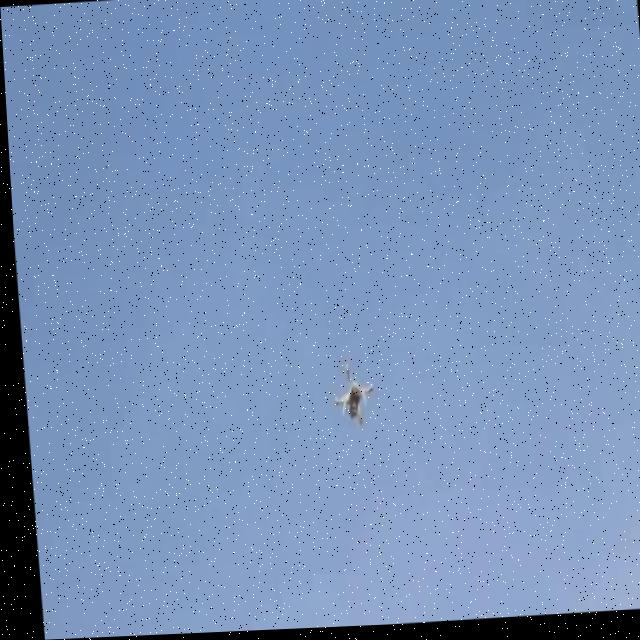drones: (317, 358, 377, 447)
